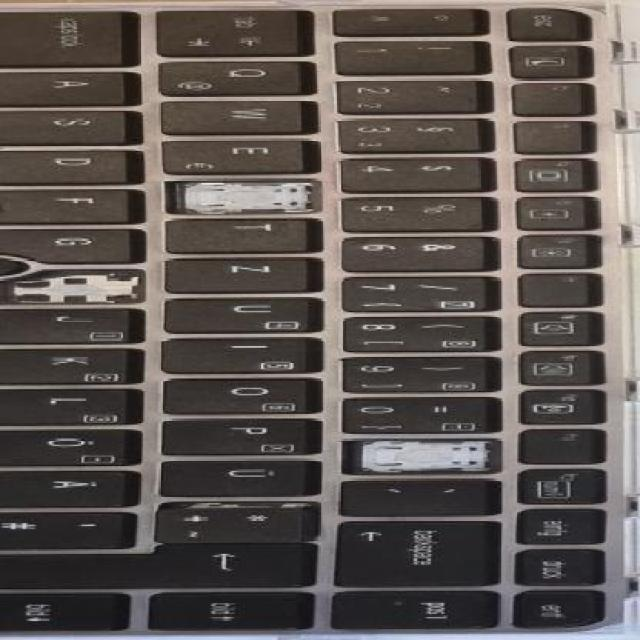Keyboard problems: (343, 438, 500, 474), (0, 271, 143, 303), (169, 182, 318, 212)
